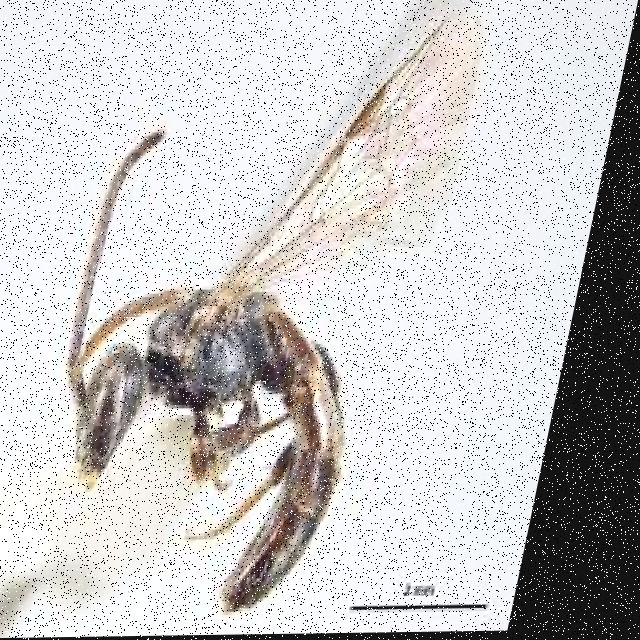Lasioglossum: (21, 11, 501, 614)
